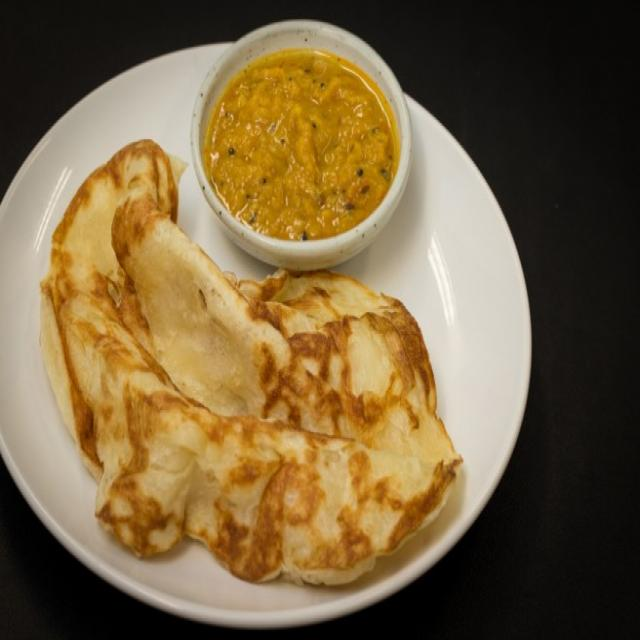Paratha: (60, 229, 436, 591)
